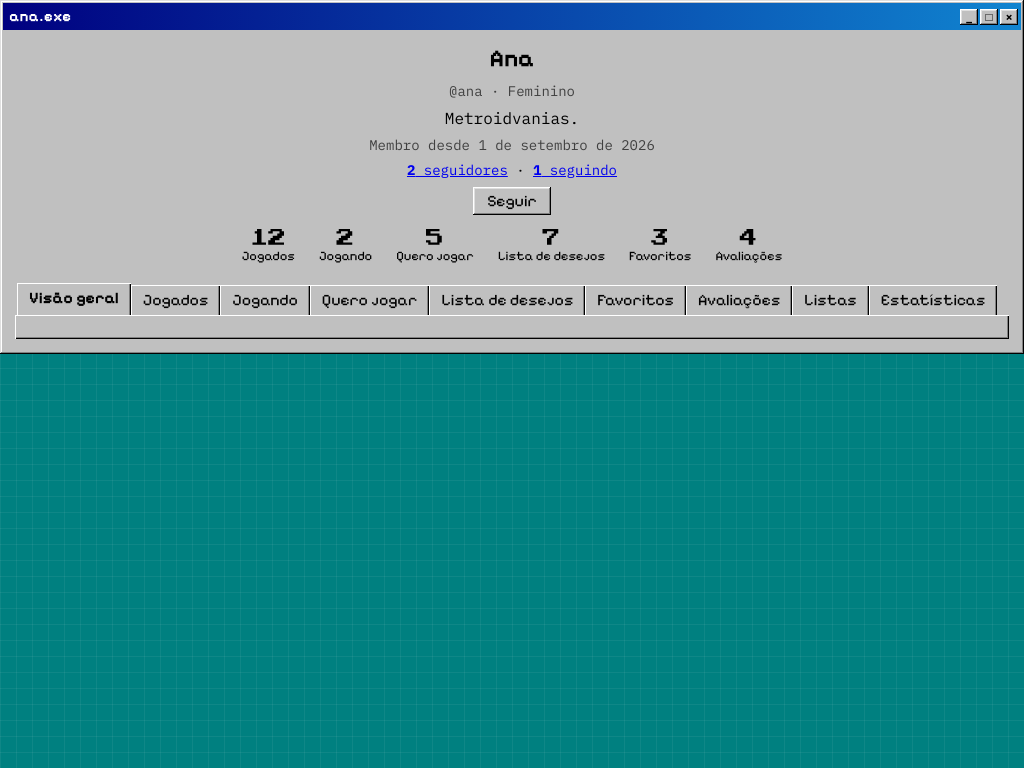
Scenario: ProfileView › com sessão, segue e deixa de seguir
Click the button "Seguir" at (512, 201), box x1=473 y1=187 x2=551 y2=215
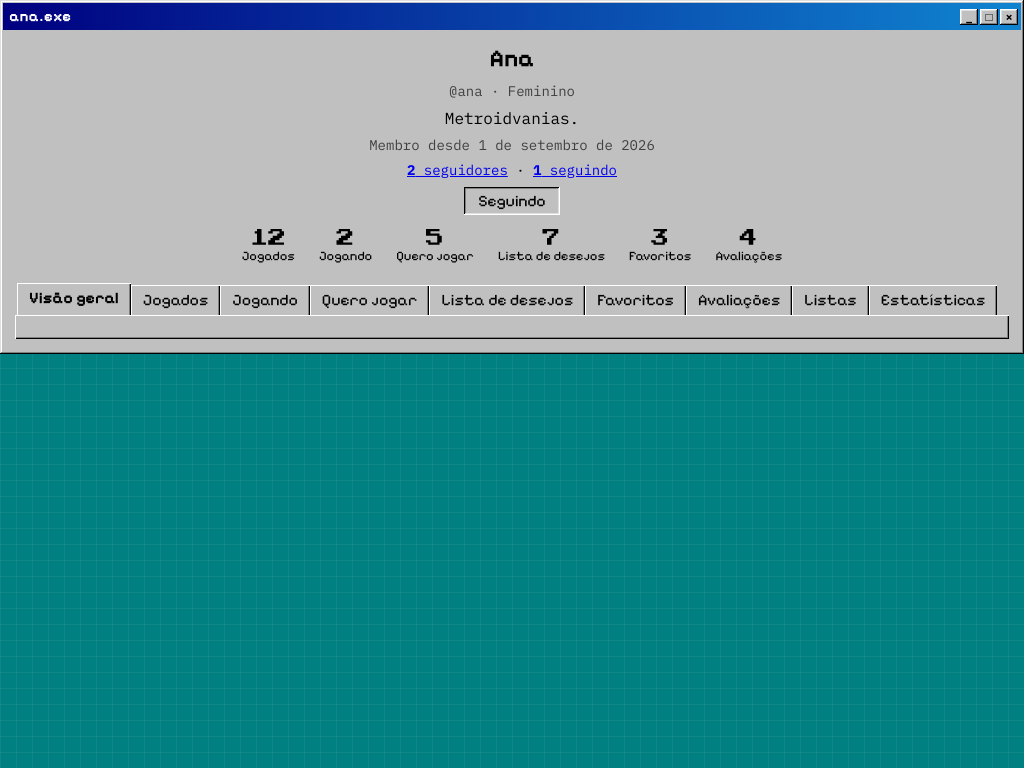
Expected: the button "Seguindo" is shown
Click the button "Seguindo" at (512, 201), box x1=464 y1=187 x2=560 y2=215
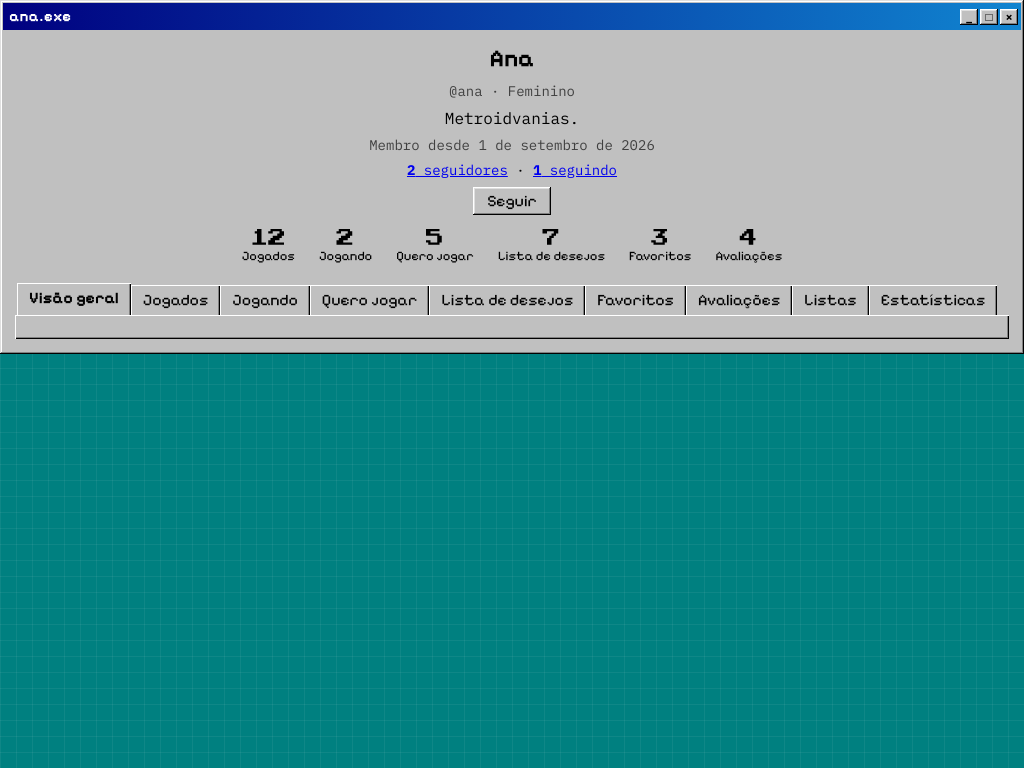
Expected: the button "Seguir" is shown, x1=473 y1=187 x2=551 y2=215
